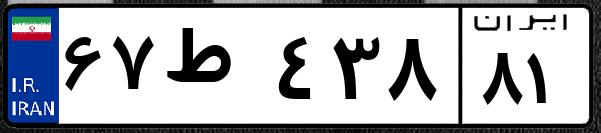1: (525, 38, 570, 115)
3: (330, 28, 385, 110)
4: (270, 28, 330, 110)
6: (57, 26, 110, 100)
7: (110, 28, 158, 98)
8: (385, 28, 445, 110), (475, 38, 525, 113)
ط: (158, 20, 270, 120)
